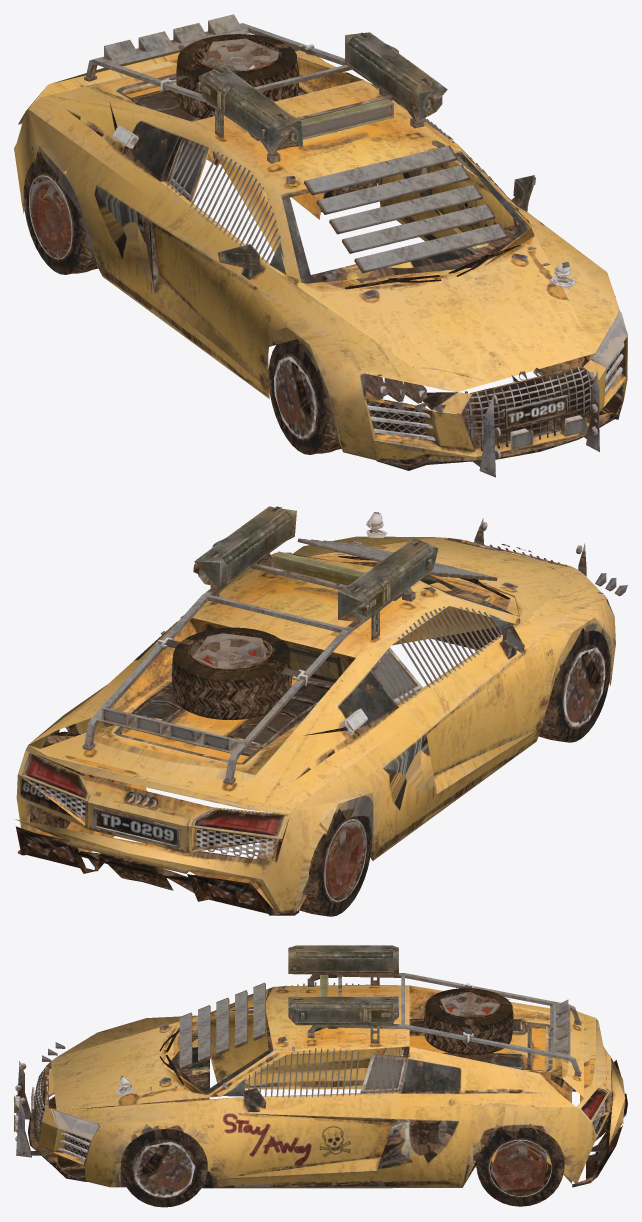
File: car.glb
3 views of the same model, one above another, from view 1: azimuth 30°, elevation 25°; view 2: azimuth 150°, elevation 25°; view 3: azimuth 270°, elevation 25° (orthographic). The views are drawn at different scales.
Visible parts, largest first — view 1: Right_polySurface146_Right_polySurface146_m1001_0, Right_polySurface146_Right_polySurface146_m1004_0, Right_polySurface146_Right_polySurface146_m1002_0, Right_polySurface146_Right_polySurface146_m1003_0; view 2: Right_polySurface146_Right_polySurface146_m1001_0, Right_polySurface146_Right_polySurface146_m1004_0, Right_polySurface146_Right_polySurface146_m1003_0, Right_polySurface146_Right_polySurface146_m1002_0; view 3: Right_polySurface146_Right_polySurface146_m1002_0, Right_polySurface146_Right_polySurface146_m1001_0, Right_polySurface146_Right_polySurface146_m1004_0, Right_polySurface146_Right_polySurface146_m1003_0.
Boxes of the visible parts, x1,y1,x2,y2 form: Right_polySurface146_Right_polySurface146_m1001_0: [14, 50, 625, 460]; Right_polySurface146_Right_polySurface146_m1004_0: [84, 14, 599, 477]; Right_polySurface146_Right_polySurface146_m1002_0: [18, 48, 627, 470]; Right_polySurface146_Right_polySurface146_m1003_0: [23, 152, 627, 454]; Right_polySurface146_Right_polySurface146_m1001_0: [15, 537, 615, 913]; Right_polySurface146_Right_polySurface146_m1004_0: [82, 506, 627, 784]; Right_polySurface146_Right_polySurface146_m1003_0: [15, 556, 610, 916]; Right_polySurface146_Right_polySurface146_m1002_0: [16, 536, 576, 853]; Right_polySurface146_Right_polySurface146_m1002_0: [28, 1046, 611, 1188]; Right_polySurface146_Right_polySurface146_m1001_0: [32, 984, 625, 1165]; Right_polySurface146_Right_polySurface146_m1004_0: [14, 945, 581, 1157]; Right_polySurface146_Right_polySurface146_m1003_0: [52, 994, 627, 1207].
Bounding box in the file's own units: 1.99 × 1.5 × 4.58.
Materials: 4 (4 with a texture image).
